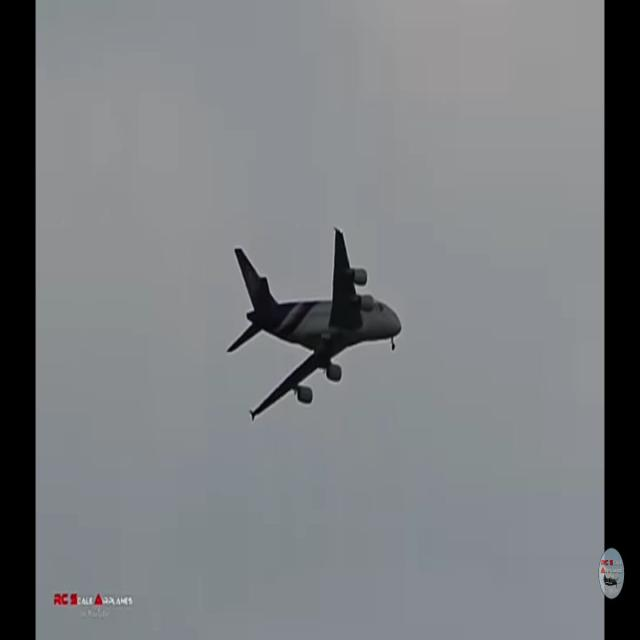iha: (226, 226, 402, 423)
